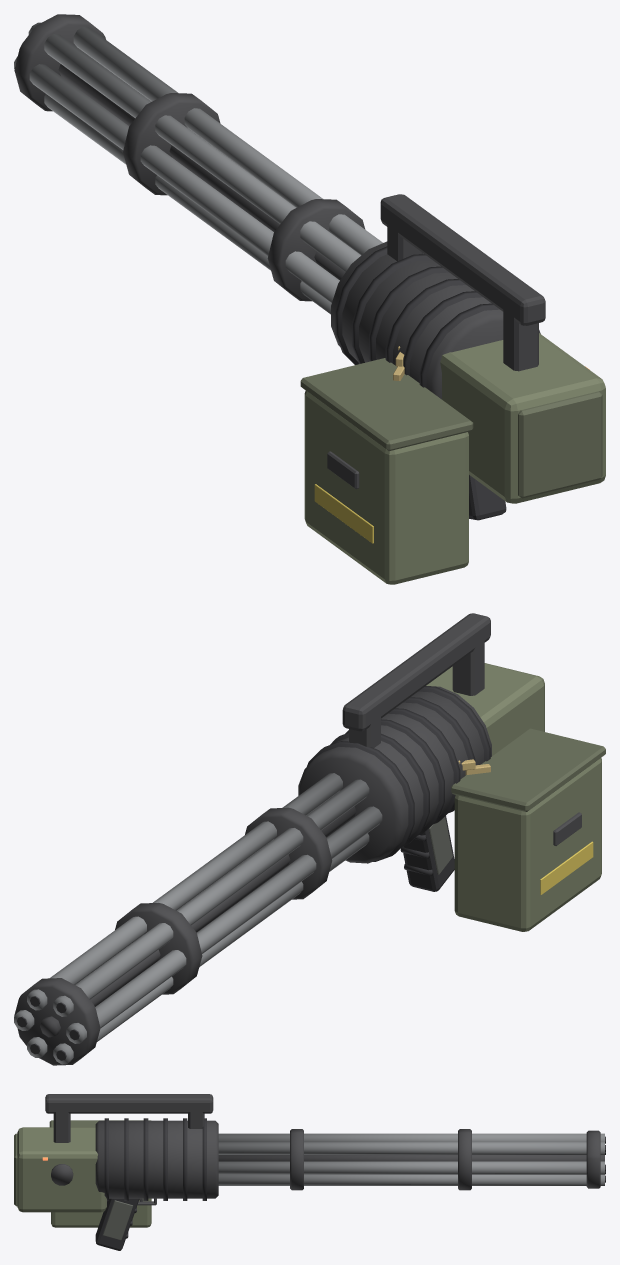
The model's file is minigun.glb.
3 views of the same model, one above another, from view 1: azimuth 30°, elevation 25°; view 2: azimuth 150°, elevation 25°; view 3: azimuth 270°, elevation 25° (orthographic). The views are drawn at different scales.
Parts seen in each view (by area): view 1: Minigun, MinigunBarrels; view 2: Minigun, MinigunBarrels; view 3: Minigun, MinigunBarrels.
Boxes of the visible parts, x1,y1,x2,y2 form: Minigun: (300, 194, 605, 584); MinigunBarrels: (14, 14, 382, 314); Minigun: (298, 613, 605, 931); MinigunBarrels: (14, 773, 382, 1065); Minigun: (14, 1094, 218, 1250); MinigunBarrels: (218, 1129, 605, 1190).
Size of the model in its own units: 0.2479 by 0.2979 by 1.06.
